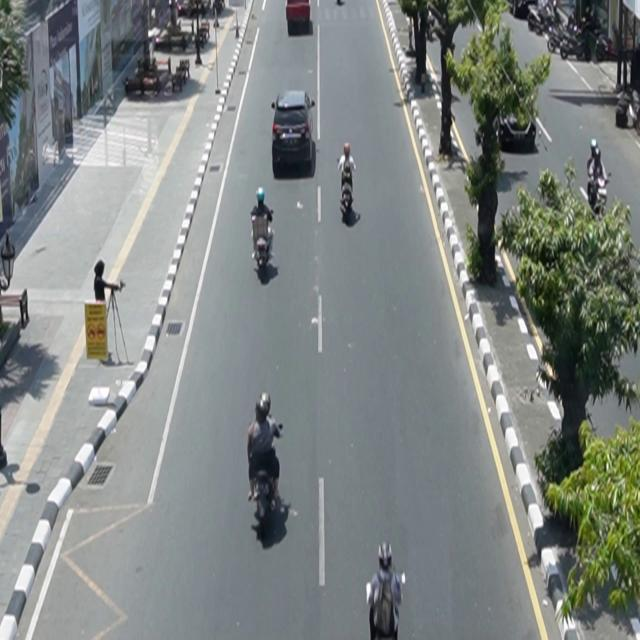car: (272, 89, 316, 171)
